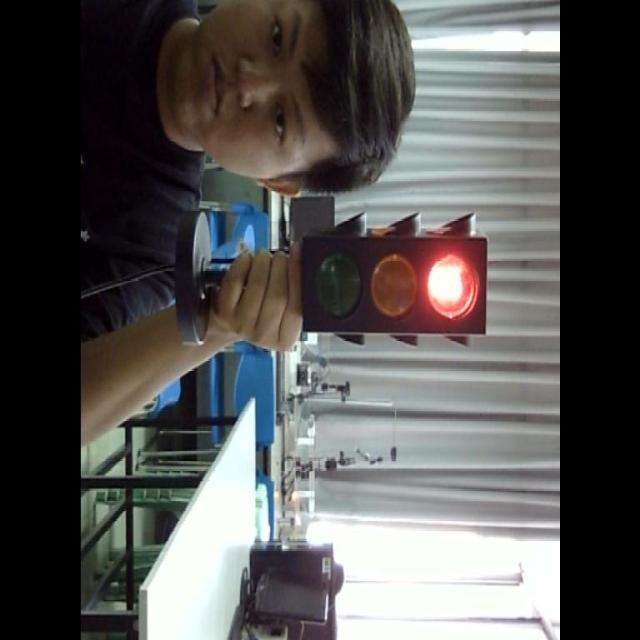red light: (428, 247, 482, 316)
